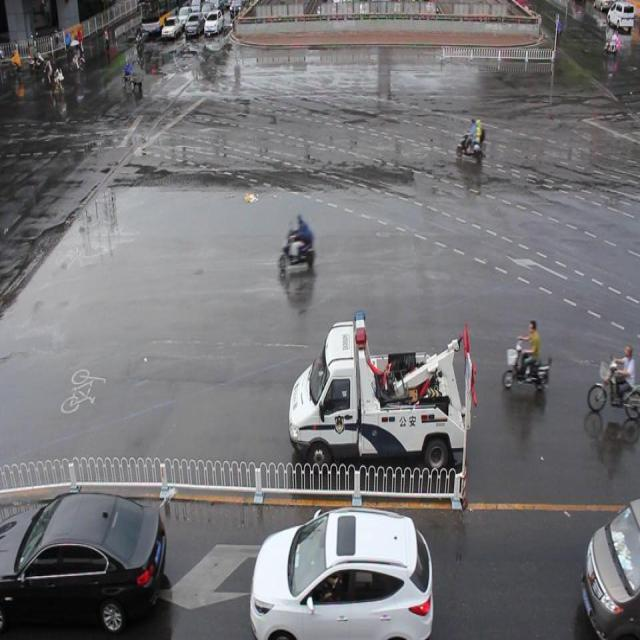bus: (289, 308, 475, 475)
car: (249, 503, 433, 640), (1, 489, 166, 640)
truck: (579, 499, 640, 640)
